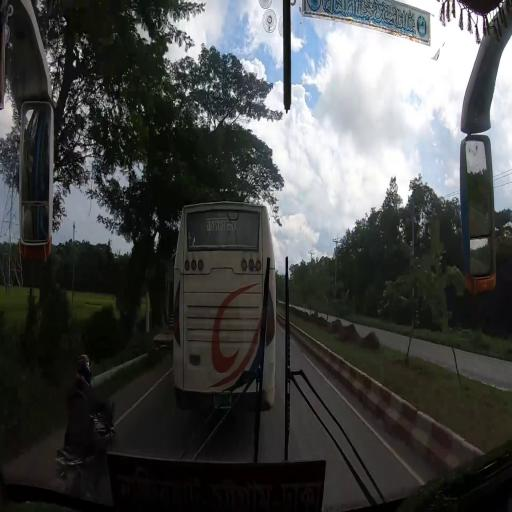bus: (176, 200, 278, 409)
motorbike: (55, 351, 117, 496)
